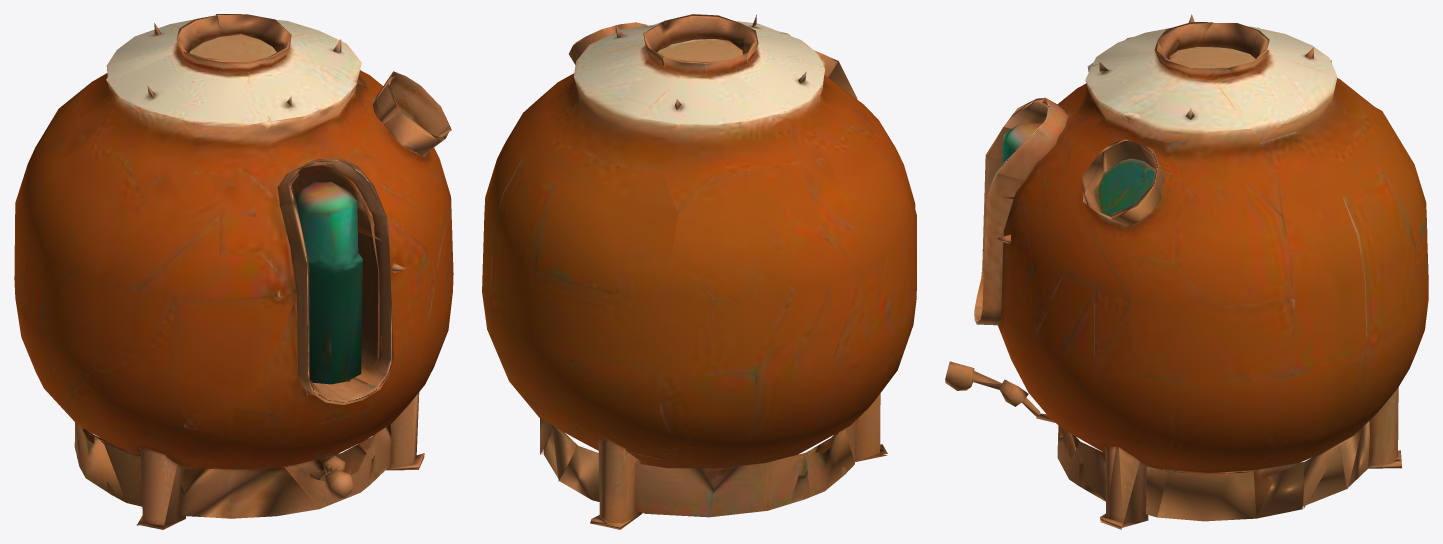
Rendered from feed-tank.glb.
The picture shows the model from 3 angles, left to right: view 1: azimuth 30°, elevation 25°; view 2: azimuth 150°, elevation 25°; view 3: azimuth 270°, elevation 25°; orthographic projection.
Parts seen in each view (by area): view 1: feed-tank; view 2: feed-tank; view 3: feed-tank.
Boxes of the visible parts, x1=… form: feed-tank: x1=14, y1=14, x2=453, y2=529; feed-tank: x1=482, y1=14, x2=916, y2=529; feed-tank: x1=945, y1=14, x2=1428, y2=529.
Size of the model in its own units: 0.8161 by 0.8577 by 0.9.
1 material, 1 textured.
